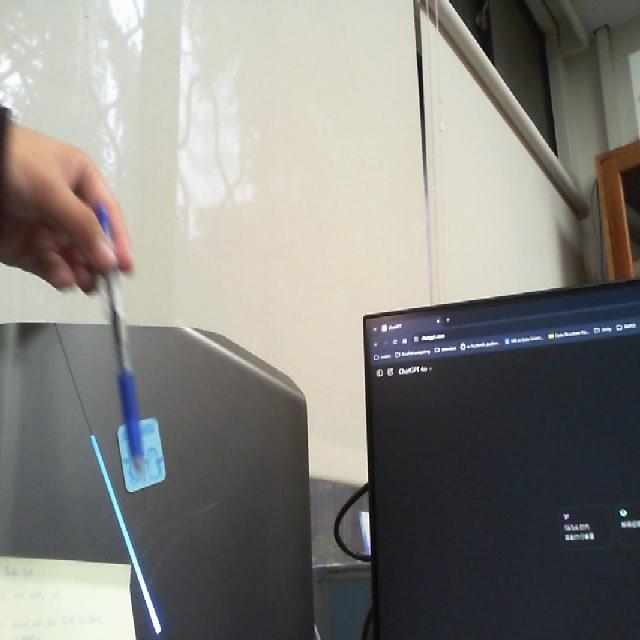Pen: (76, 193, 158, 508)
